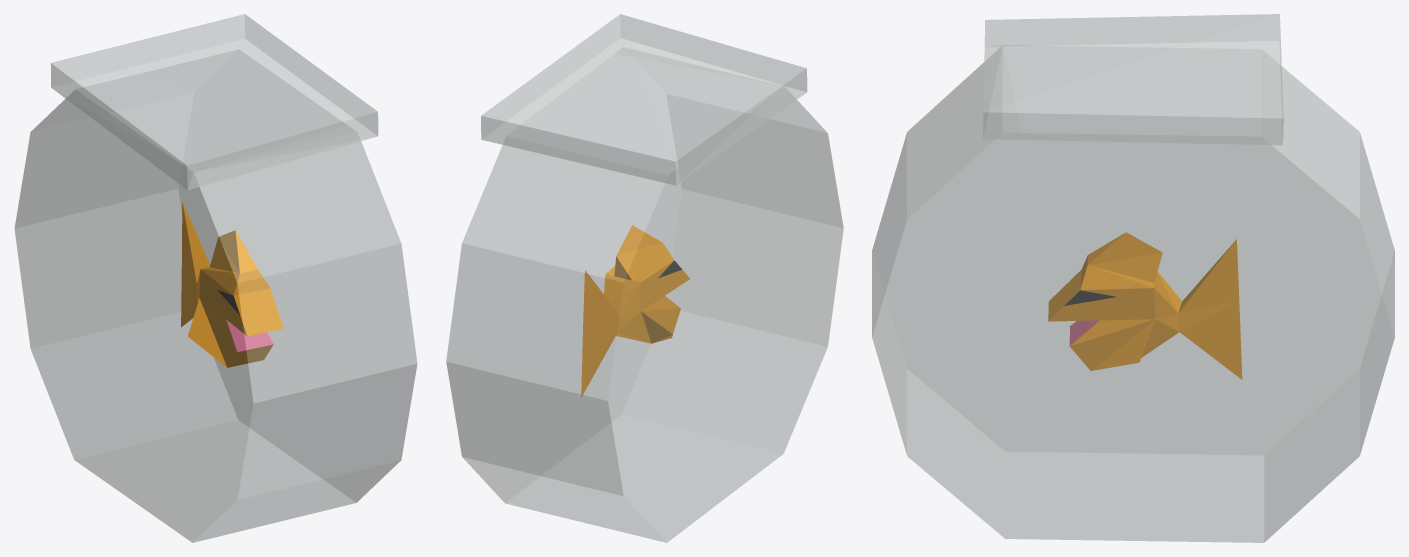
Rendered from deco_fishbowl.glb.
The picture shows the model from 3 angles, left to right: view 1: azimuth 30°, elevation 25°; view 2: azimuth 150°, elevation 25°; view 3: azimuth 270°, elevation 25°; orthographic projection. The views are drawn at different scales.
Visible parts, largest first — view 1: group701238410, group837923450; view 2: group701238410, group837923450; view 3: group701238410, group837923450.
Boxes of the visible parts, box(x1,y1,x2,y2) form: group701238410: box(14, 14, 417, 542); group837923450: box(181, 202, 283, 367); group701238410: box(446, 14, 843, 542); group837923450: box(581, 225, 689, 396); group701238410: box(872, 14, 1394, 542); group837923450: box(1048, 232, 1242, 379).
Bounding box in the file's own units: 0.2507 × 0.4886 × 0.53.
